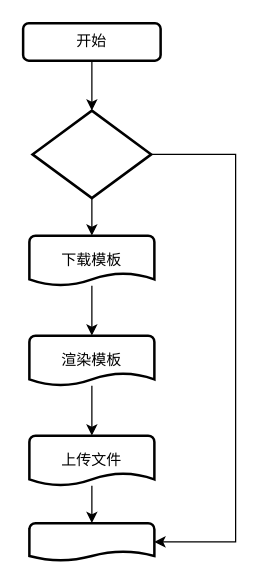
Some shapes in this 268 by 583 pixel diagram are drawn without their labels. Each missing label, with the centre of its shape:
"参数校验" goes at point 91,154.
"返回结果" goes at point 91,541.
